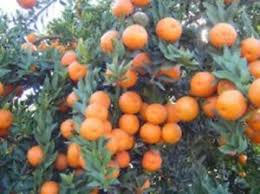orange: (207, 21, 238, 48), (157, 18, 182, 42), (124, 26, 149, 47), (178, 95, 198, 120), (146, 102, 167, 123), (121, 90, 141, 112)
